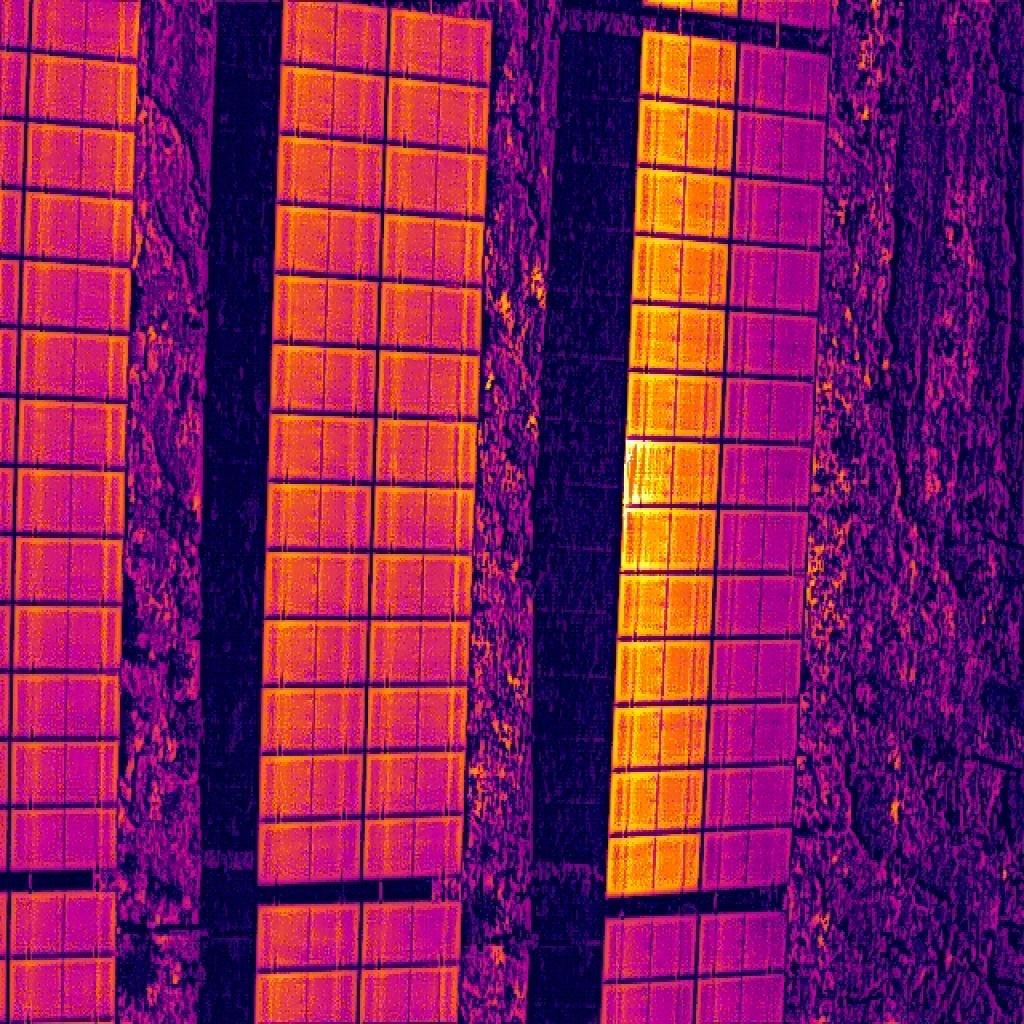panel: (23, 190, 133, 266), (737, 45, 831, 124), (375, 353, 482, 418), (263, 621, 368, 683), (727, 310, 817, 379)
